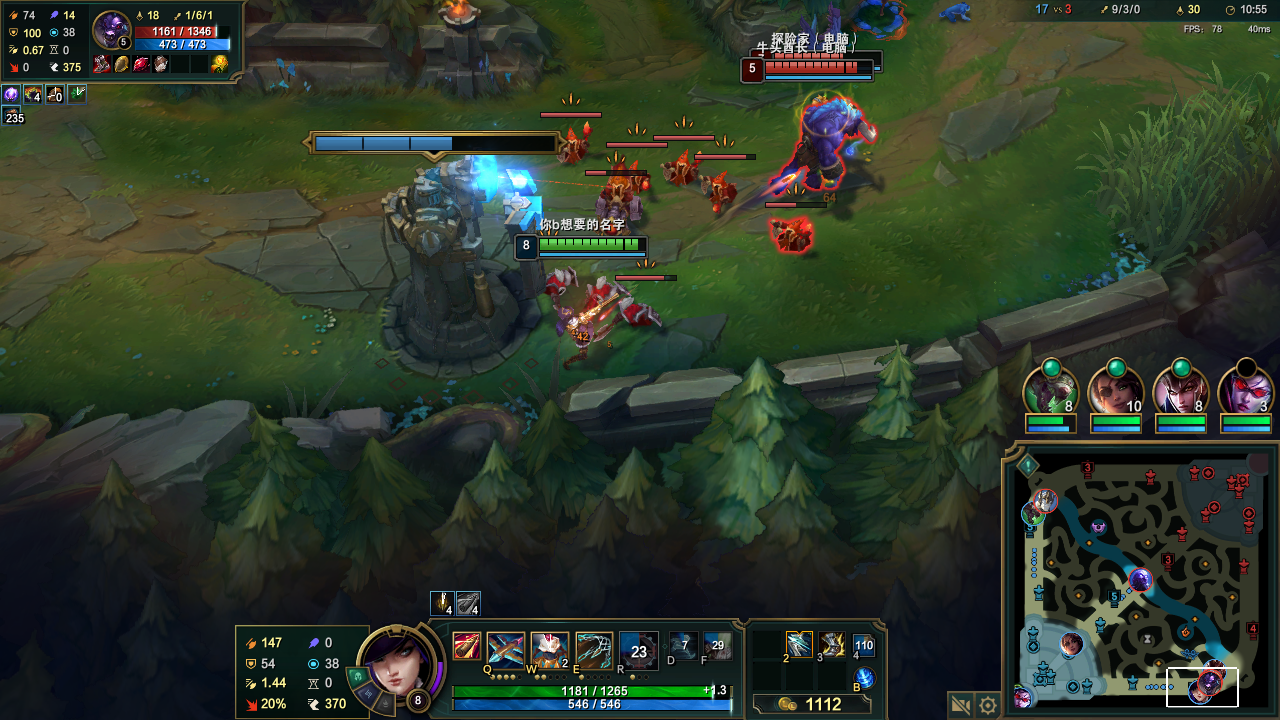DFXB: (591, 184, 639, 228), (543, 263, 582, 300), (704, 165, 737, 205), (773, 216, 806, 254), (658, 151, 693, 185), (562, 125, 593, 162), (583, 276, 621, 306), (624, 297, 657, 329), (627, 158, 654, 187)
DFYX: (765, 64, 867, 76), (771, 51, 873, 63)
